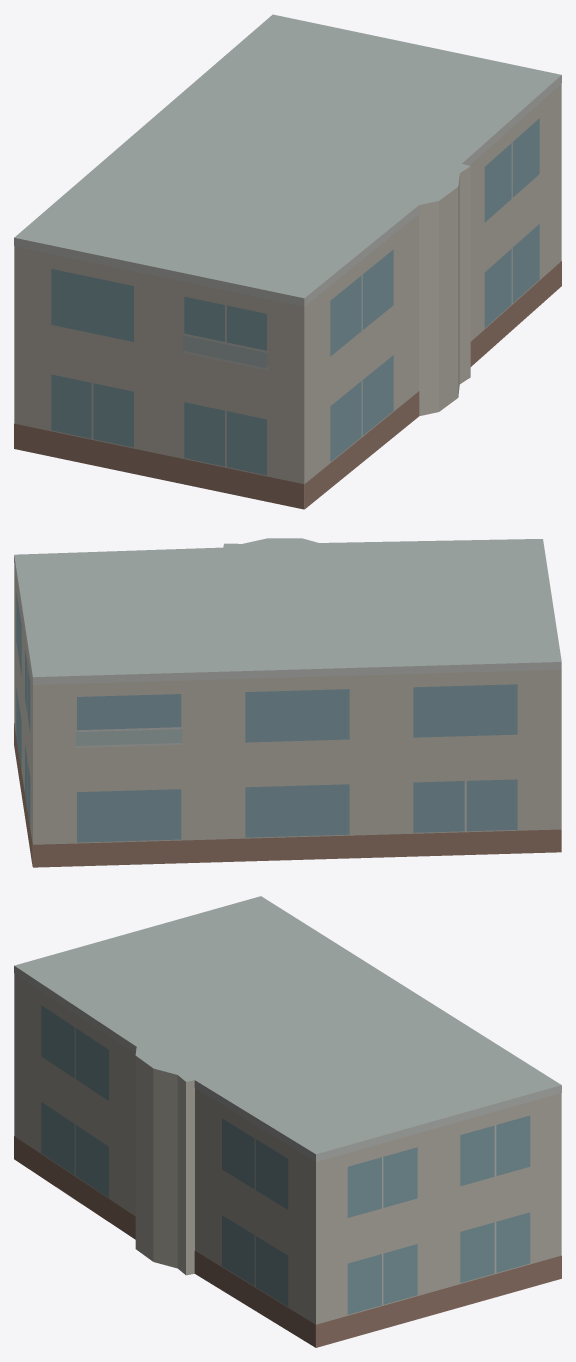
The model's file is survey-upis-32922657.glb.
3 views of the same model, one above another, from view 1: azimuth 30°, elevation 25°; view 2: azimuth 150°, elevation 25°; view 3: azimuth 270°, elevation 25° (orthographic). The views are drawn at different scales.
Visible parts, largest first — view 1: survey-upis-32922657.tmp; view 2: survey-upis-32922657.tmp; view 3: survey-upis-32922657.tmp.
Boxes of the visible parts, left/top/right/bottom form: survey-upis-32922657.tmp: left=14, top=14, right=561, bottom=509; survey-upis-32922657.tmp: left=14, top=538, right=561, bottom=867; survey-upis-32922657.tmp: left=14, top=896, right=561, bottom=1347.
Bounding box in the file's own units: 17.47 × 6.1 × 15.65.
